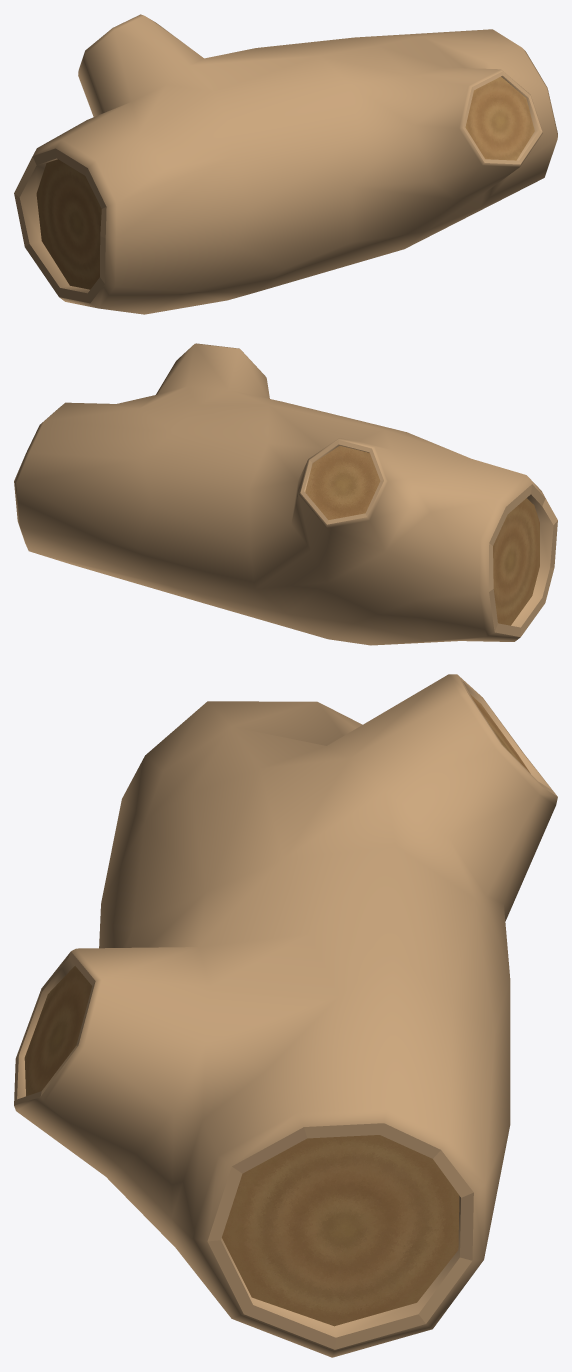
Rendered from Log_3.fbx.
3 renders of one model, top to bottom at view 1: azimuth 30°, elevation 25°; view 2: azimuth 150°, elevation 25°; view 3: azimuth 270°, elevation 25°, orthographic. The views are drawn at different scales.
Parts seen in each view (by area): view 1: Cube.079; view 2: Cube.079; view 3: Cube.079.
Part boxes in pixels (x1,y1,x2,y2): Cube.079: (14, 14, 557, 314); Cube.079: (14, 343, 557, 645); Cube.079: (14, 674, 557, 1357).
Bounding box in the file's own units: 113 × 53.7 × 63.25.
